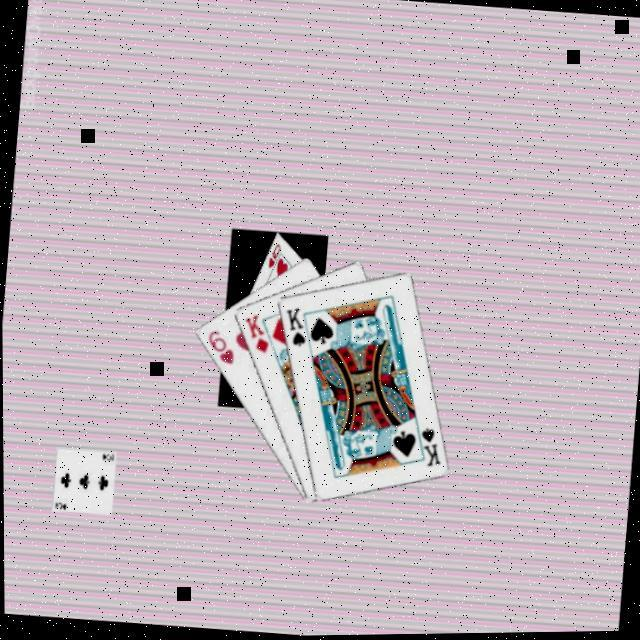6H: (200, 328, 236, 369)
KD: (236, 312, 271, 359)
KS: (406, 424, 444, 472), (276, 306, 308, 352)
